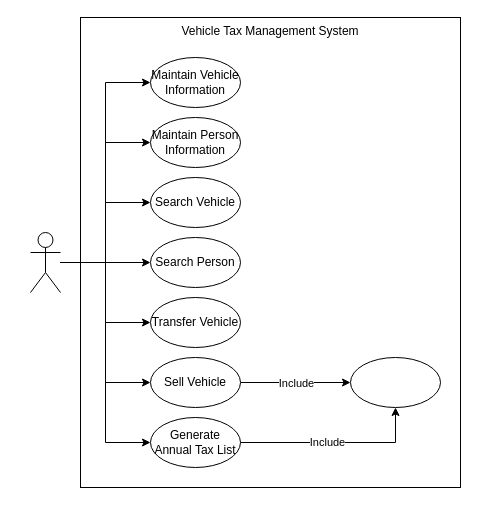
The diagram is 478 pixels wide and 505 high, and some of its shapes have lost their labels. Each missing label, with the box of its shape:
Calculate Tax: (350, 356, 440, 408)
Tax Officer: (30, 232, 60, 292)
